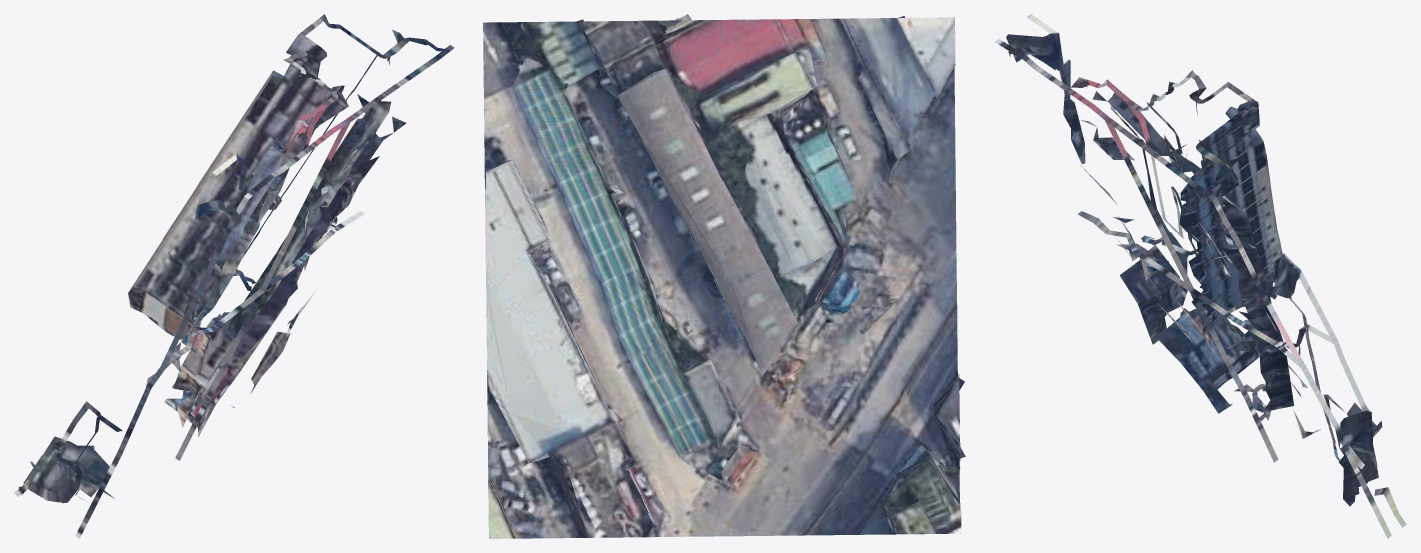
3 renders of one model, left to right at view 1: azimuth 30°, elevation 25°; view 2: azimuth 150°, elevation 25°; view 3: azimuth 270°, elevation 25°, orthographic. The views are drawn at different scales.
Size of the model in its own units: 82.8 by 76.55 by 66.74.
Materials: 2 (2 with a texture image).
